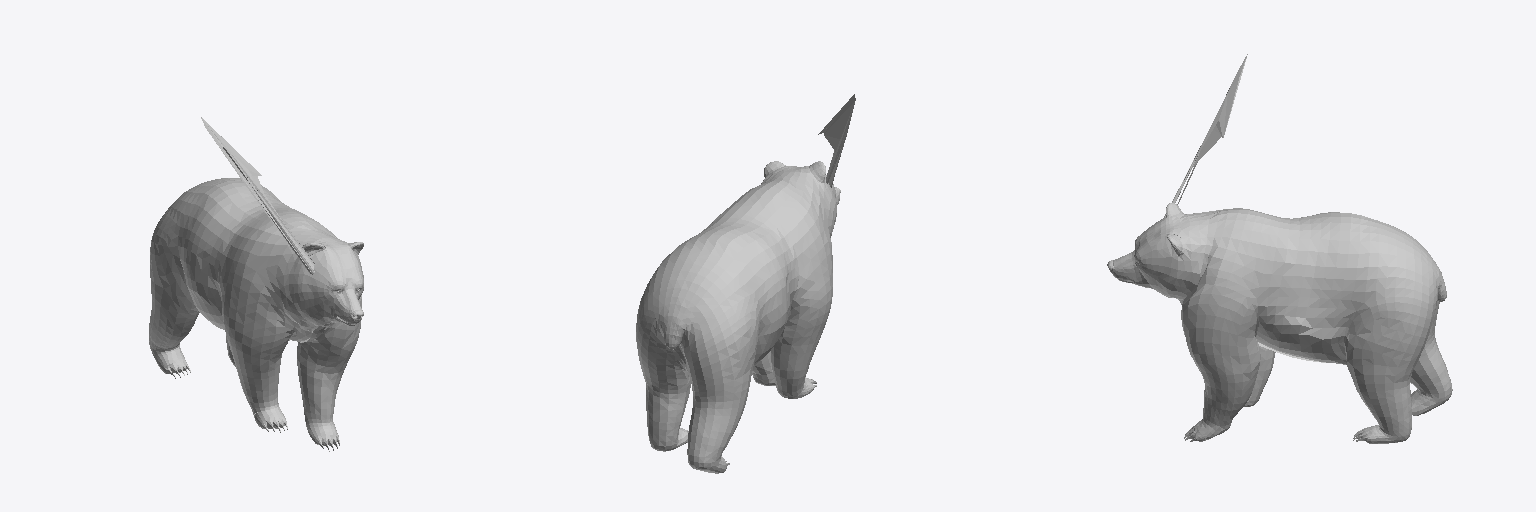
File: Bear0013.obj
3 renders of one model, left to right at view 1: azimuth 30°, elevation 25°; view 2: azimuth 150°, elevation 25°; view 3: azimuth 270°, elevation 25°, orthographic.
Visible parts, largest first — view 1: Object_237; view 2: Object_237; view 3: Object_237.
Part boxes in pixels (x1,y1,x2,y2): Object_237: (149, 117, 363, 451); Object_237: (636, 94, 855, 473); Object_237: (1107, 54, 1452, 443).
Bounding box in the file's own units: 2.34 × 5.3 × 4.92.